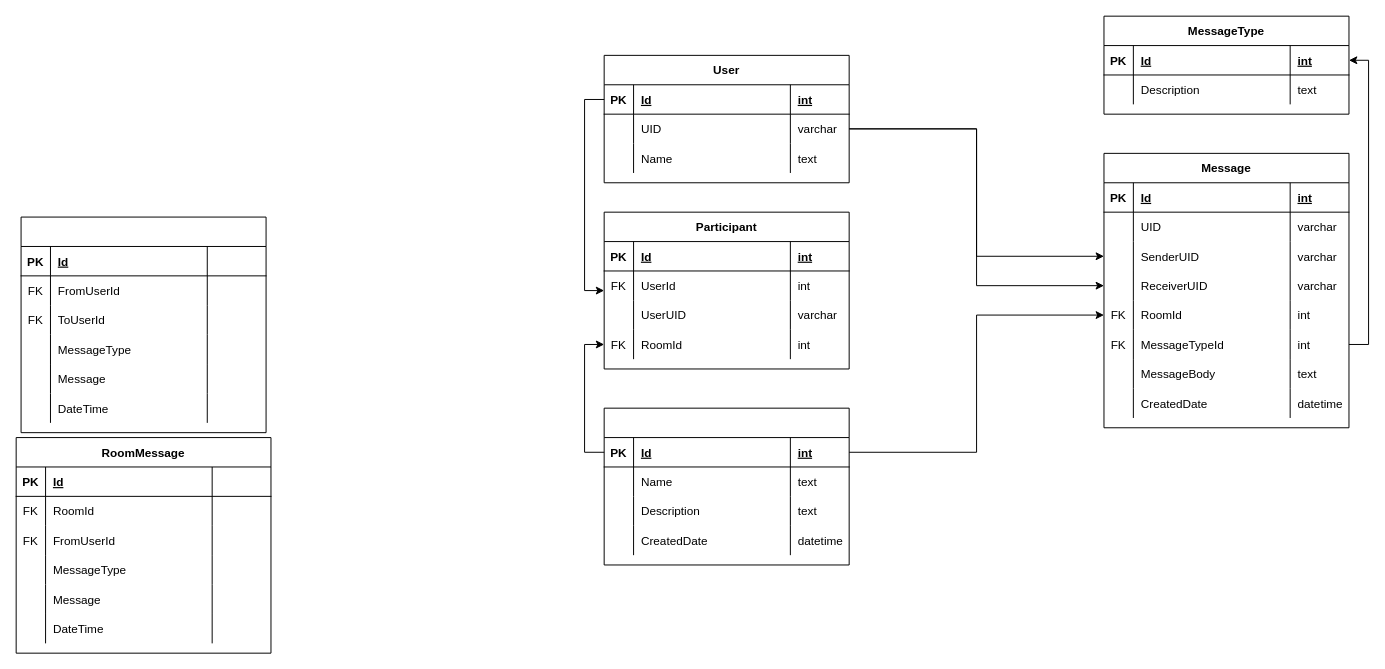
This 1385x669 diagram has some shape labels left out. The shapes that lost their labels are listed below. From the top down, each one's box as (x1, y1, x2, y2) in pixels, then its label:
(20, 216, 266, 433): SingleMessage
(603, 407, 849, 565): Room
